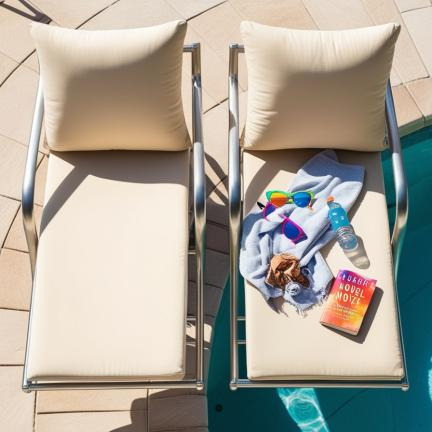empty chair: (22, 20, 205, 391)
occupied chair: (230, 21, 408, 389)
